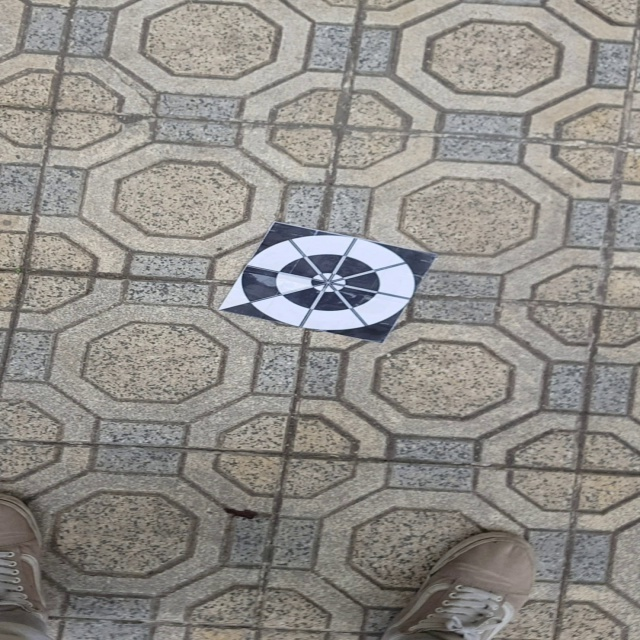landing-zone: (214, 215, 433, 343)
